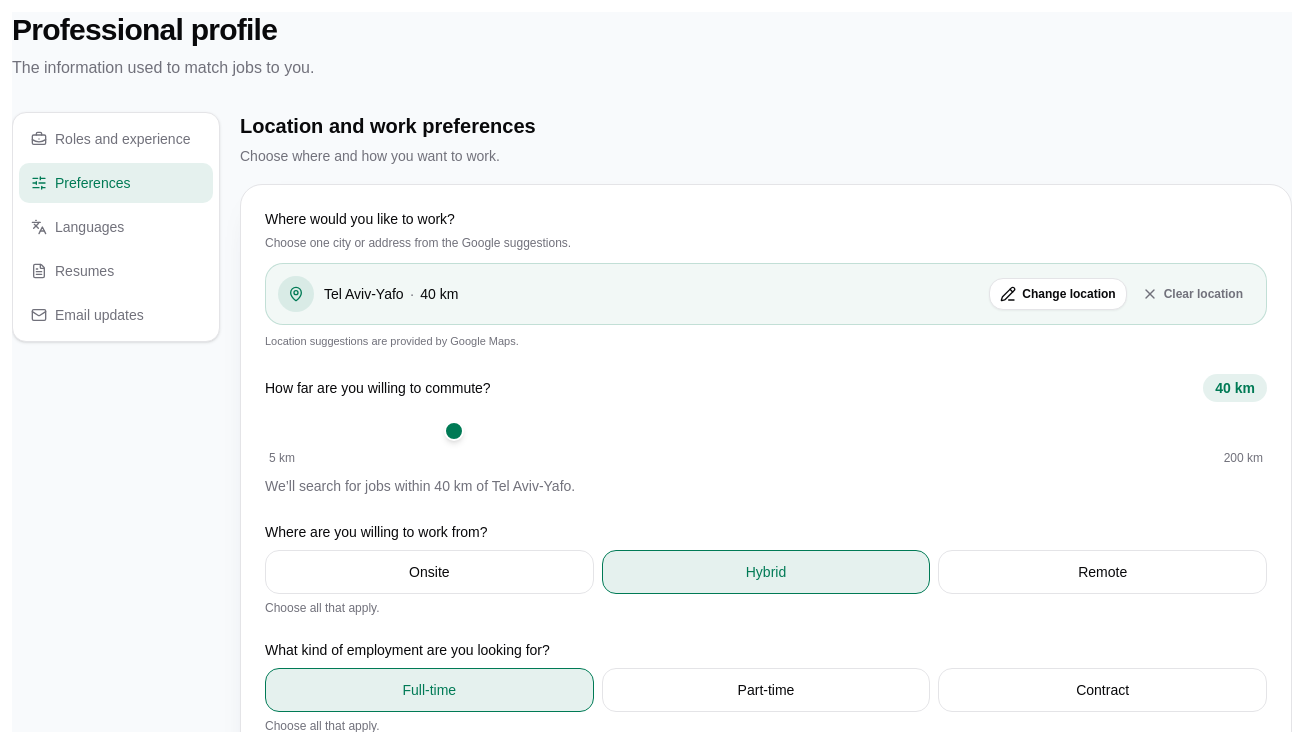
Test: dashboard and completed profile editing › keeps profile actions hidden until a preference actually changes
The width and height of the screenshot is (1304, 732).
Expected: the button "Save profile" is not shown
Expected: the button "Cancel" is not shown
Click the checkbox labelled "Remote": (1103, 572) [938,550,1267,594]
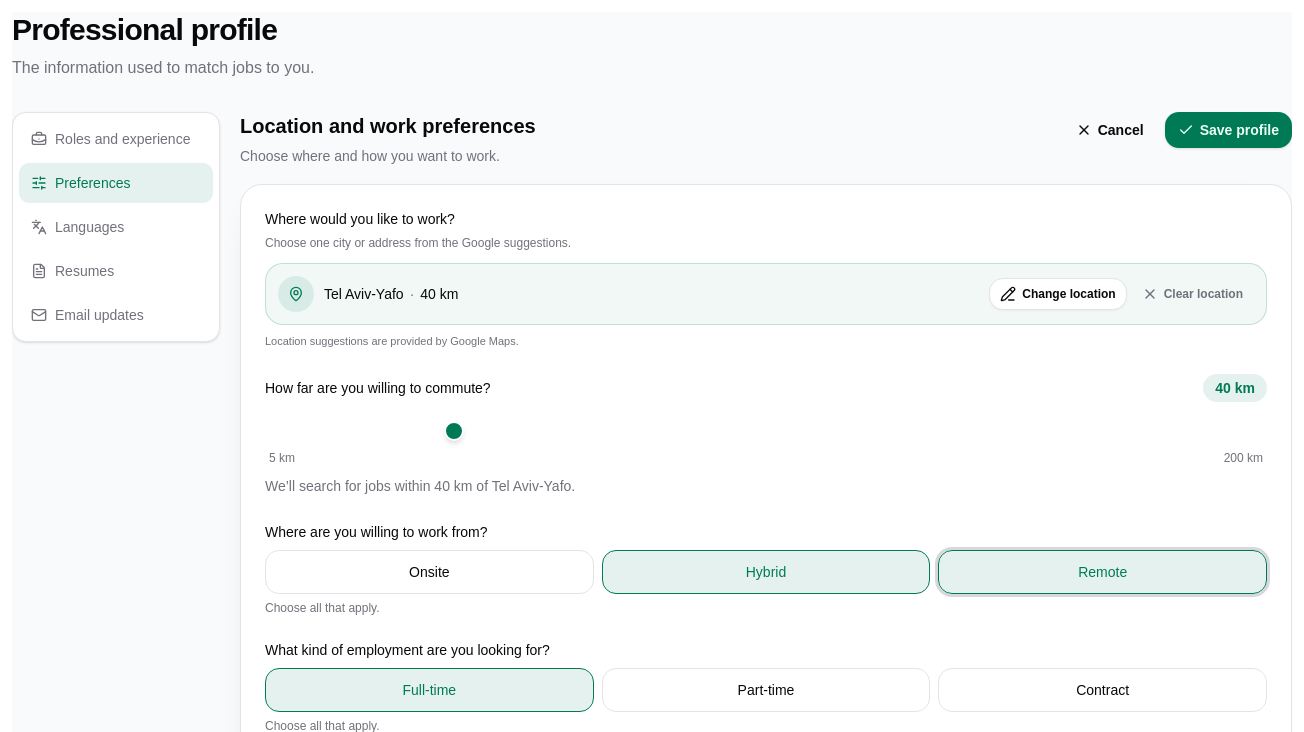
Expected: the button "Save profile" is shown, [1165,112,1292,148]
Expected: the button "Cancel" is shown, [1063,112,1157,148]
